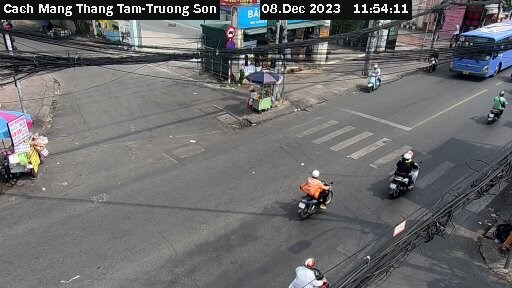bus: (451, 19, 512, 76)
motorbike: (284, 167, 340, 226), (279, 249, 340, 288), (384, 151, 428, 203), (484, 89, 512, 130), (362, 62, 390, 99)
